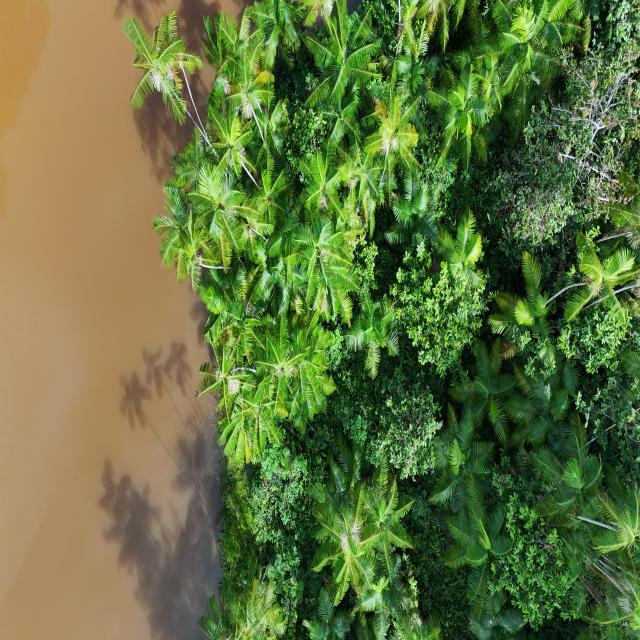vegetation: (121, 1, 638, 638)
